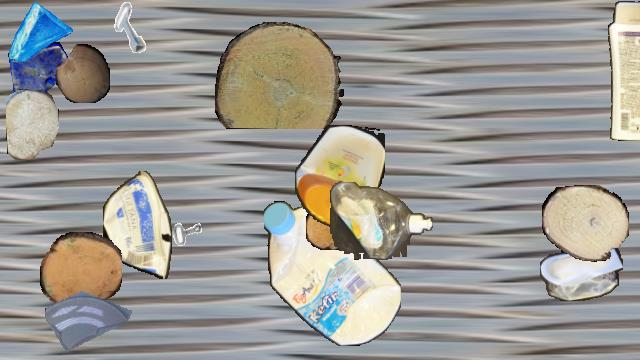glass: (45, 273, 131, 359), (6, 42, 72, 108), (7, 1, 73, 67)
metal: (153, 193, 211, 251), (106, 1, 158, 53)
plastic: (264, 200, 400, 346), (295, 125, 385, 227), (330, 182, 432, 260), (103, 171, 171, 279), (540, 240, 622, 300), (605, 1, 640, 141)
wood: (215, 22, 343, 128), (542, 185, 628, 261), (40, 232, 122, 310), (6, 89, 58, 159), (56, 44, 110, 102), (306, 204, 350, 250)
